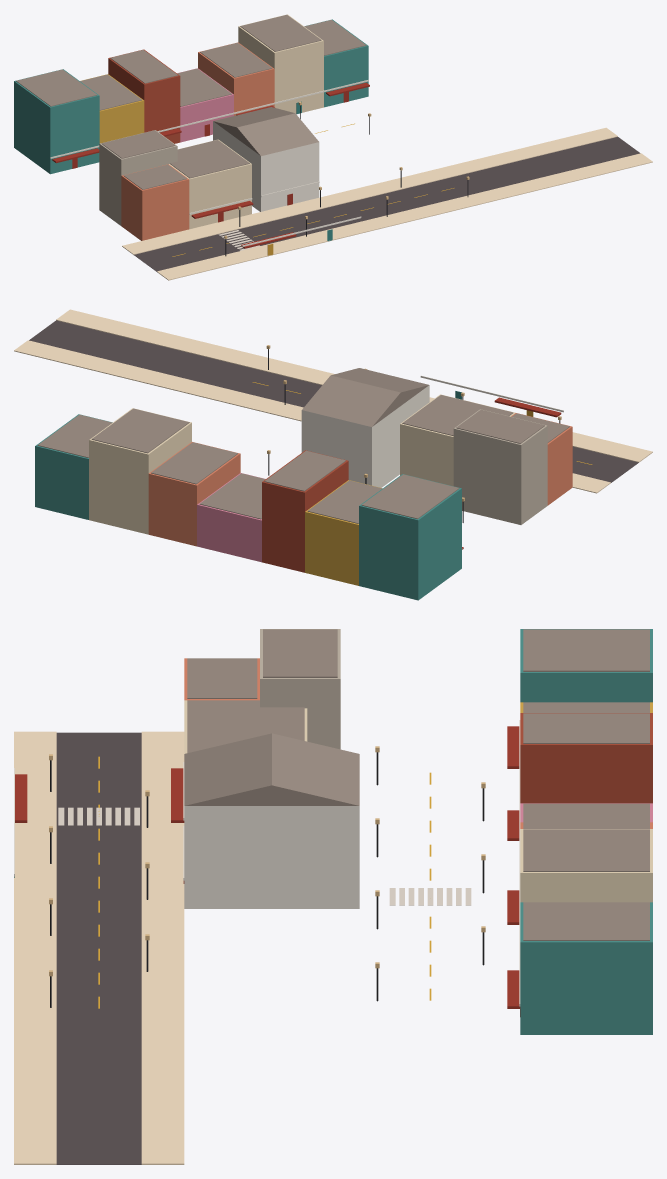
File: chunk_1_-1.glb
3 renders of one model, top to bottom at view 1: azimuth 30°, elevation 25°; view 2: azimuth 150°, elevation 25°; view 3: azimuth 270°, elevation 25°, orthographic. The views are drawn at different scales.
Parts seen in each view (by area): view 1: chunk_1_-1__building, chunk_1_-1__ground; view 2: chunk_1_-1__building, chunk_1_-1__ground; view 3: chunk_1_-1__building, chunk_1_-1__ground, chunk_1_-1__lamp.
Boxes of the visible parts, x1,y1,x2,y2 form: chunk_1_-1__building: [14, 14, 369, 255]; chunk_1_-1__ground: [122, 123, 652, 280]; chunk_1_-1__building: [35, 368, 572, 600]; chunk_1_-1__ground: [14, 309, 652, 493]; chunk_1_-1__building: [14, 629, 652, 1034]; chunk_1_-1__ground: [14, 731, 471, 1164]; chunk_1_-1__lamp: [49, 746, 485, 1007].
Size of the model in its own units: 108 by 14.4 by 67.5.
